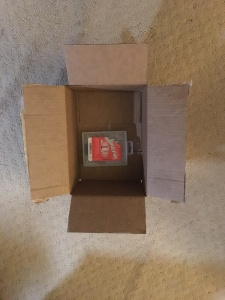innerbox: (68, 86, 144, 196)
outerbox: (26, 45, 187, 234)
product: (81, 132, 136, 168)
